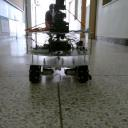cart: (26, 31, 94, 83)
